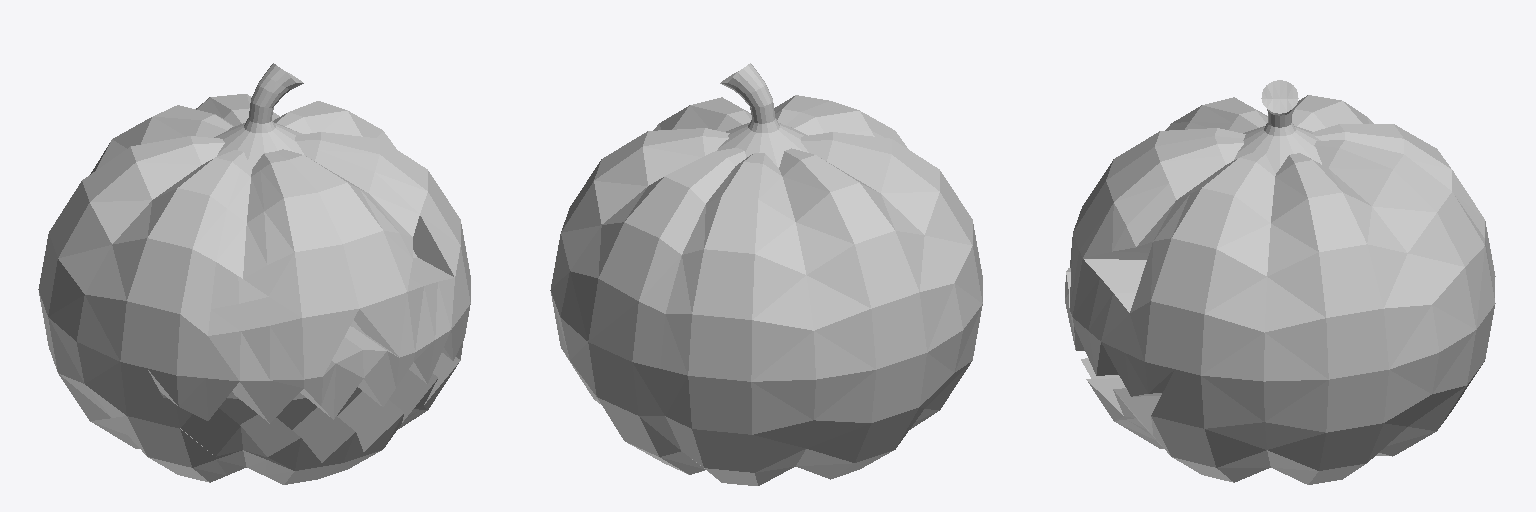
The model's file is pumpkinOBJ.obj.
3 renders of one model, left to right at view 1: azimuth 30°, elevation 25°; view 2: azimuth 150°, elevation 25°; view 3: azimuth 270°, elevation 25°, orthographic.
Visible parts, largest first — view 1: Cylinder001; view 2: Cylinder001; view 3: Cylinder001.
Part boxes in pixels (bbox=[...]): Cylinder001: bbox=[38, 63, 470, 484]; Cylinder001: bbox=[550, 63, 982, 485]; Cylinder001: bbox=[1065, 80, 1495, 484].
Size of the model in its own units: 107 by 101 by 107.